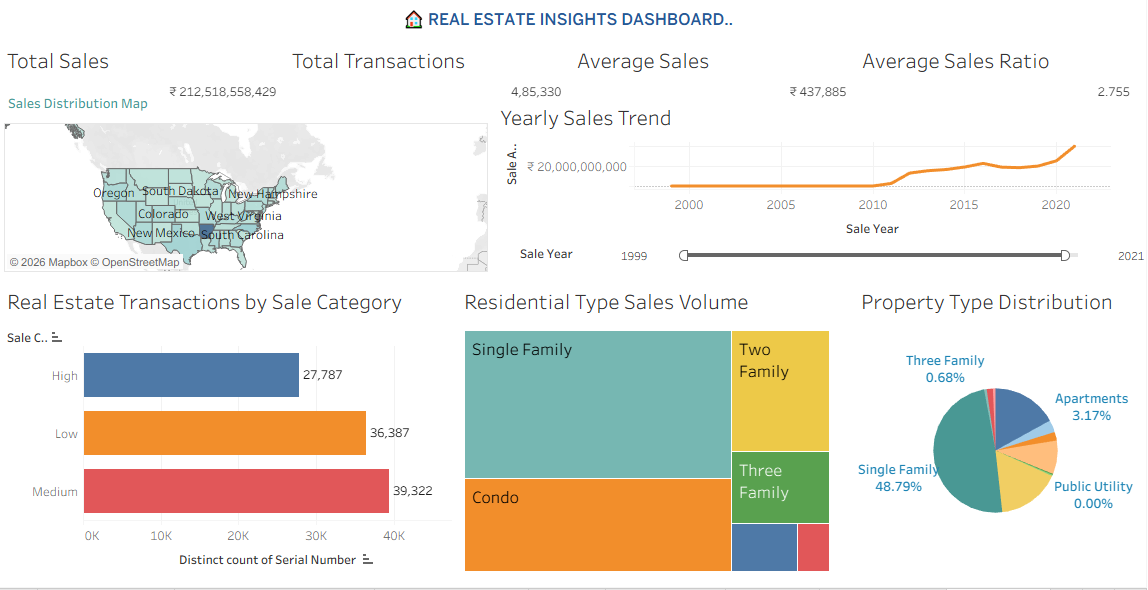

The dashboard page shown, as its layout file describes it:
{"tool":"tableau","page":{"name":"Dashboard 1","canvas":[1000,1000],"units":"permille","ordinal":0},"visuals":[{"type":"text","box":[7,10,986,68.8]},{"type":"worksheet","title":"Total Sales","mark":"Automatic","box":[7,78.8,246.7,137.5]},{"type":"worksheet","title":"Total Transactions","mark":"Automatic","box":[253.7,78.8,246.7,137.5]},{"type":"worksheet","title":"Average Sales","mark":"Automatic","box":[500.4,78.8,246.7,137.5]},{"type":"worksheet","title":"Average Sales Ratio","mark":"Automatic","box":[747.1,78.8,245.8,137.5]},{"type":"worksheet","title":"Sales Distribution Map","mark":"Multipolygon","box":[11,160,419,308]},{"type":"worksheet","title":"Yearly Sales Trend","mark":"Automatic","rows":["Sale Amount"],"cols":["Calculation_0902462221910022"],"box":[437.7,175,532.6,245]},{"type":"worksheet","title":"Real Estate Transactions by Sale Category","mark":"Automatic","rows":["Calculation_0902462231277575"],"cols":["Serial Number"],"box":[7,478.8,402.1,511.2]},{"type":"worksheet","title":"Residential Type Sales Volume","mark":"Automatic","box":[408.9,479,337.6,511]},{"type":"worksheet","title":"Property Type Distribution","mark":"Pie","box":[746.5,479,246.5,511]}]}

Visuals, with their boxes on the dashboard's canvas, which has no fixed pixel size, in thousandths of its width and height (x1, y1, x2, y2). These are canvas units, not pixel positions in the 1148x590 screenshot, which may show the page scaled, cropped or inside an application window:
text: bbox(7, 10, 993, 79)
"Total Sales" worksheet: bbox(7, 79, 254, 216)
"Total Transactions" worksheet: bbox(254, 79, 500, 216)
"Average Sales" worksheet: bbox(500, 79, 747, 216)
"Average Sales Ratio" worksheet: bbox(747, 79, 993, 216)
"Sales Distribution Map" worksheet (Multipolygon marks): bbox(11, 160, 430, 468)
"Yearly Sales Trend" worksheet: bbox(438, 175, 970, 420)
"Real Estate Transactions by Sale Category" worksheet: bbox(7, 479, 409, 990)
"Residential Type Sales Volume" worksheet: bbox(409, 479, 746, 990)
"Property Type Distribution" worksheet (Pie marks): bbox(746, 479, 993, 990)
